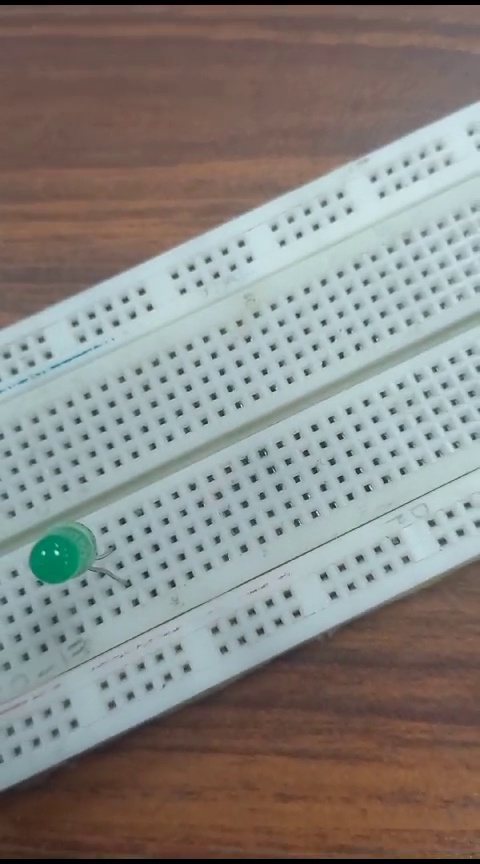LED: (28, 516, 127, 608)
